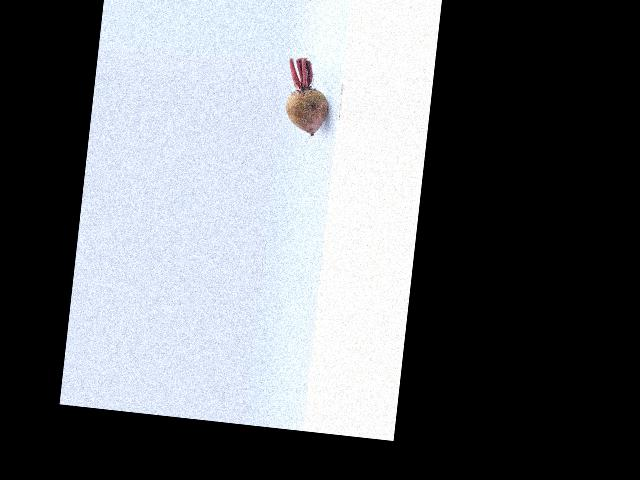beet: (282, 57, 332, 136)
